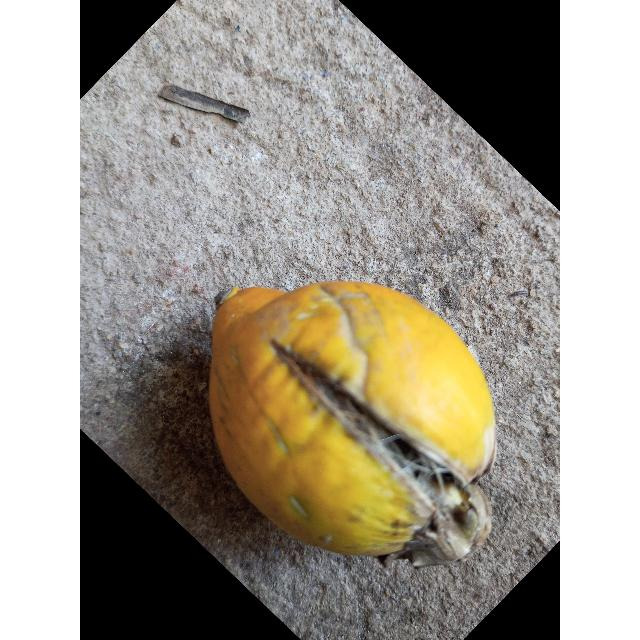damaged: (208, 280, 496, 572)
